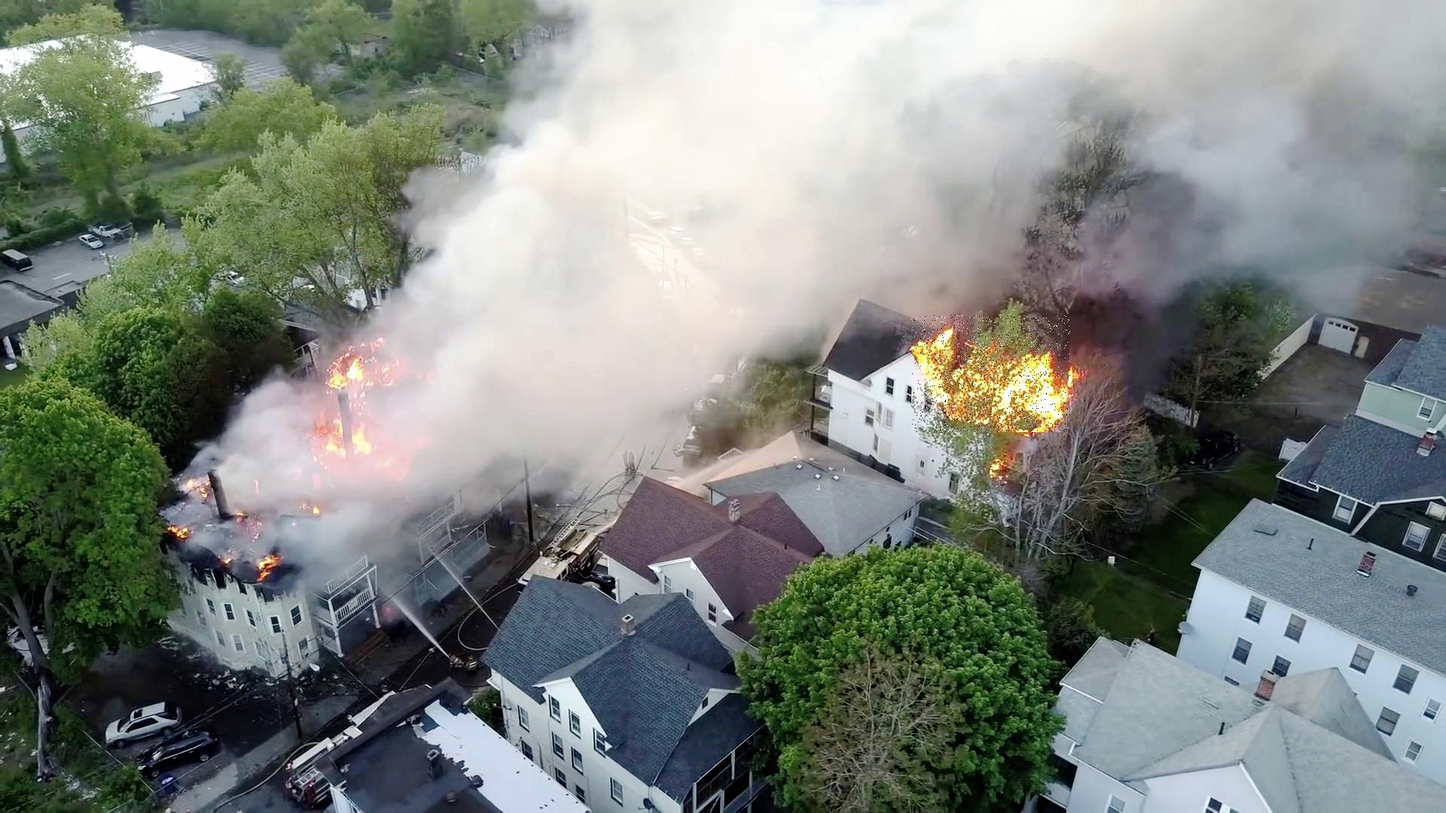fire: (911, 315, 1070, 432)
